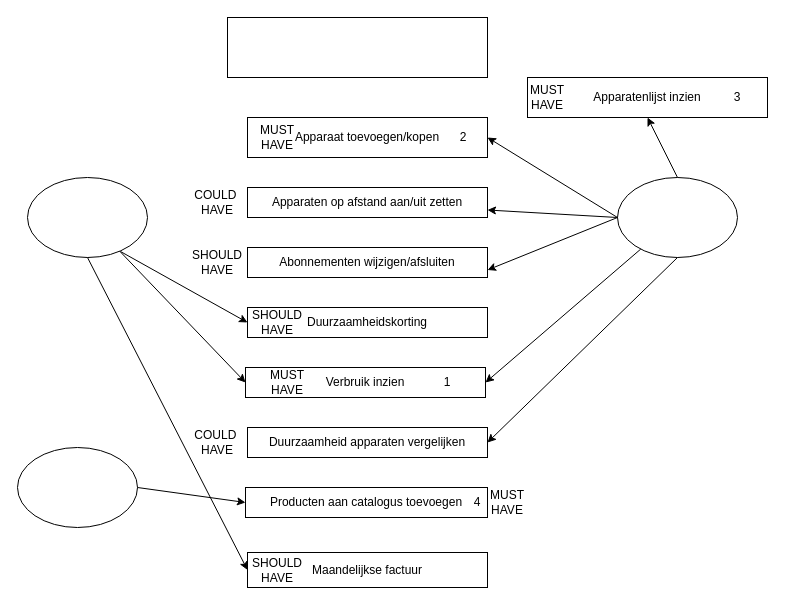
This 785x605 diagram has some shape labels left out. The shapes that lost their labels are listed below. From the top down, each one's centre as x and y in pixels, then its label:
the point at 357,47: Sustainable energie verbruik
the point at 87,217: Utility Company
the point at 677,217: Gebruikers/ afnemers in 1 huishouden
the point at 77,487: Producent apparatuur
